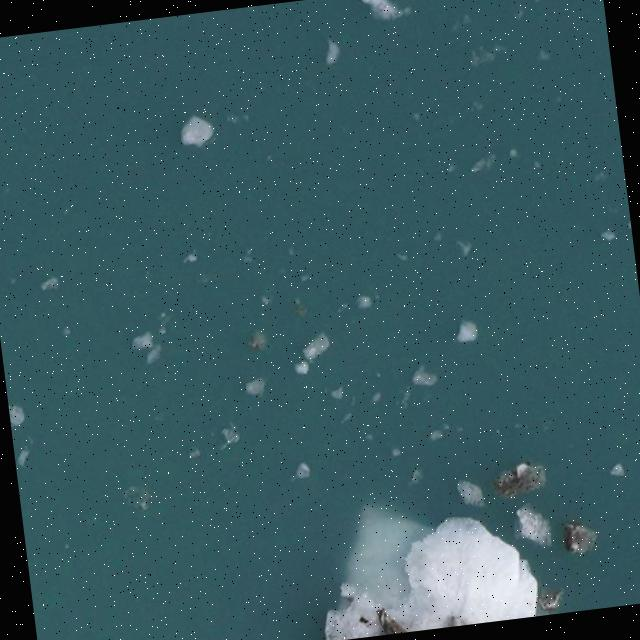seal: (370, 607, 406, 640)
